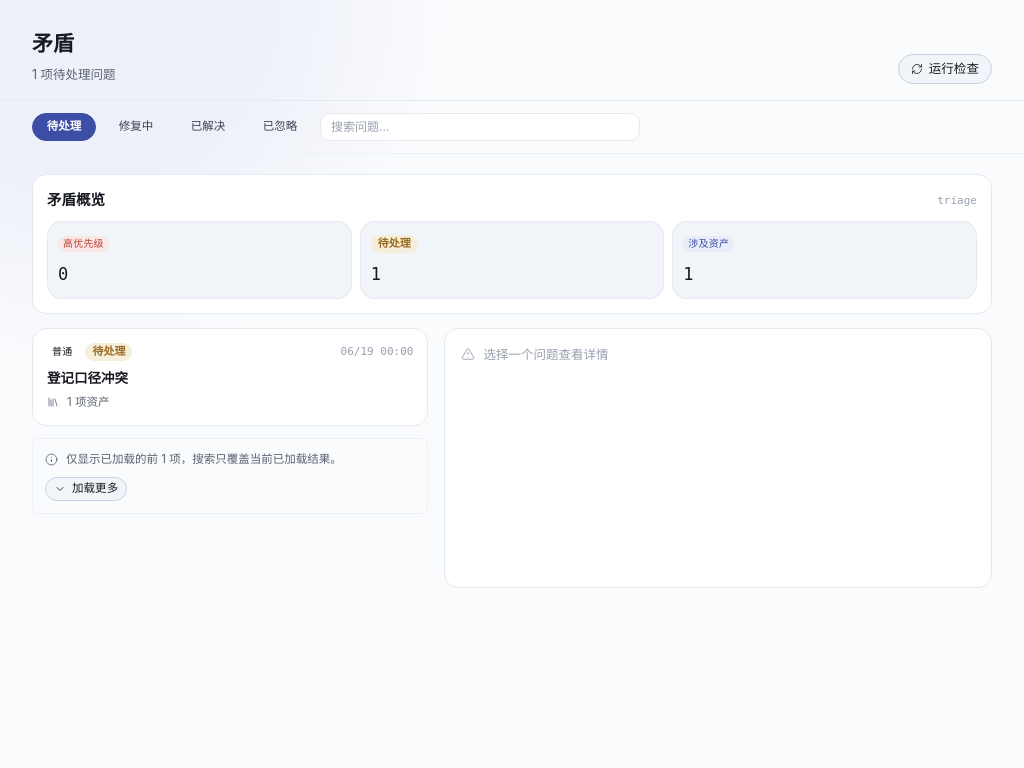
Test: ConsistencyIssuesPage › retries loading more issues after a failed page request
Expected: the text "登记口径冲突" is shown, x1=47 y1=370 x2=128 y2=386
Click the button "加载更多". click: (86, 489)
box: x1=45 y1=477 x2=127 y2=501
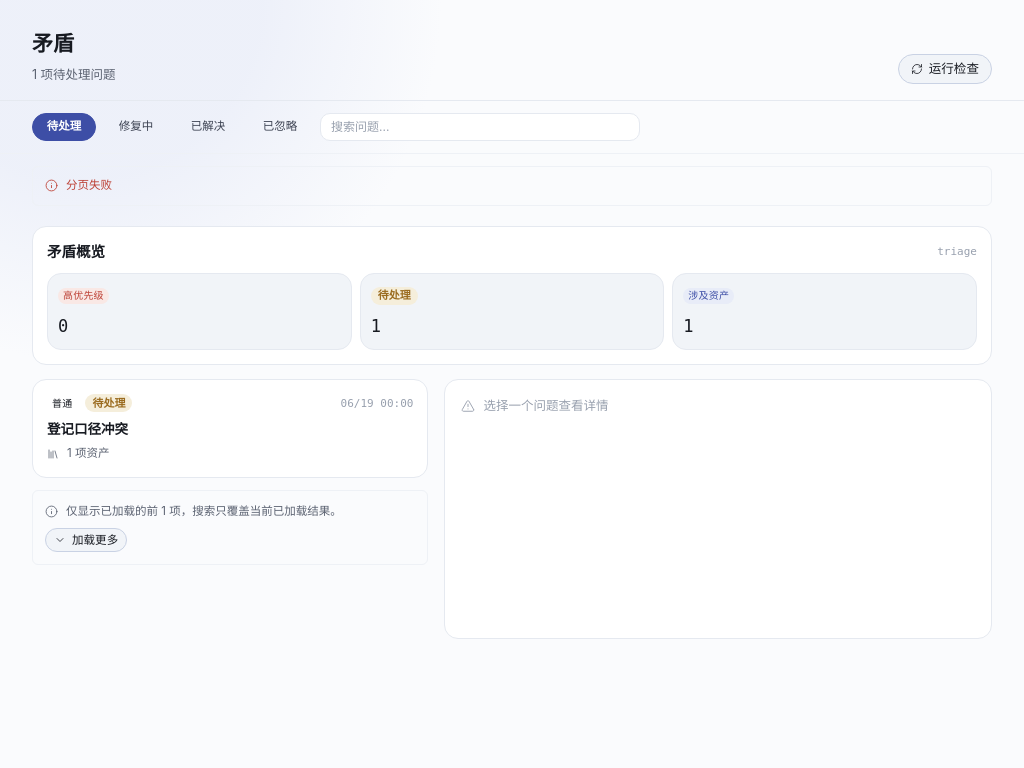
Expected: the text "分页失败" is shown, x1=66 y1=177 x2=112 y2=195
Click the button "加载更多". click: (86, 540)
box: x1=45 y1=528 x2=127 y2=552
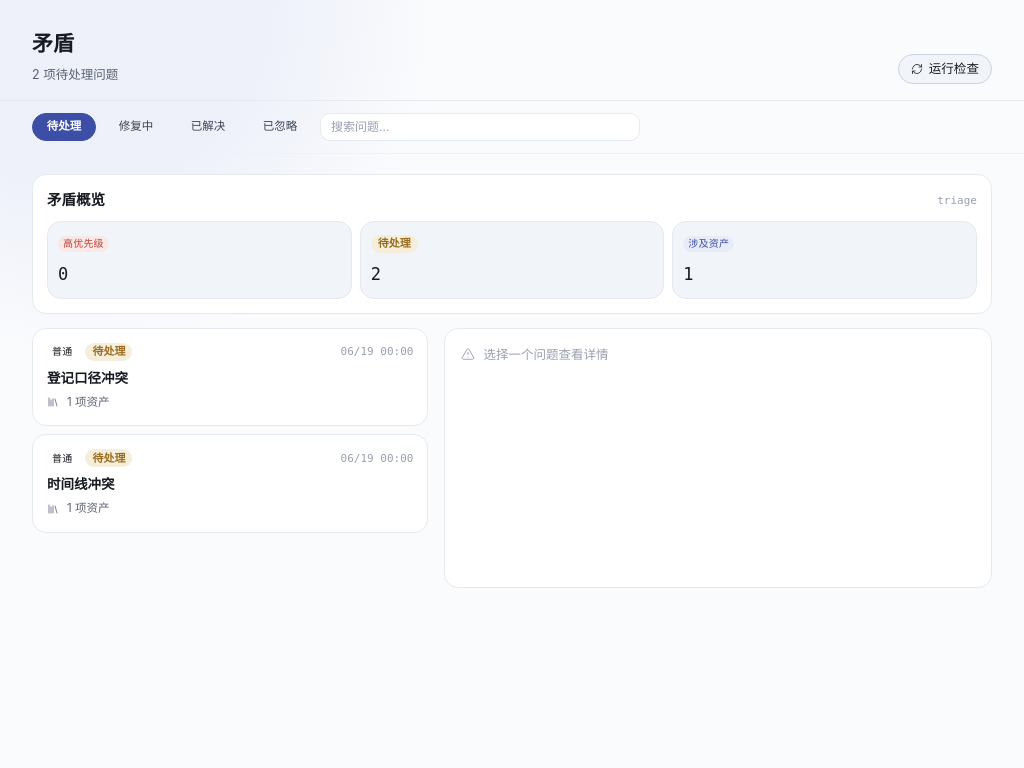
Expected: the text "时间线冲突" is shown, x1=47 y1=476 x2=114 y2=492
